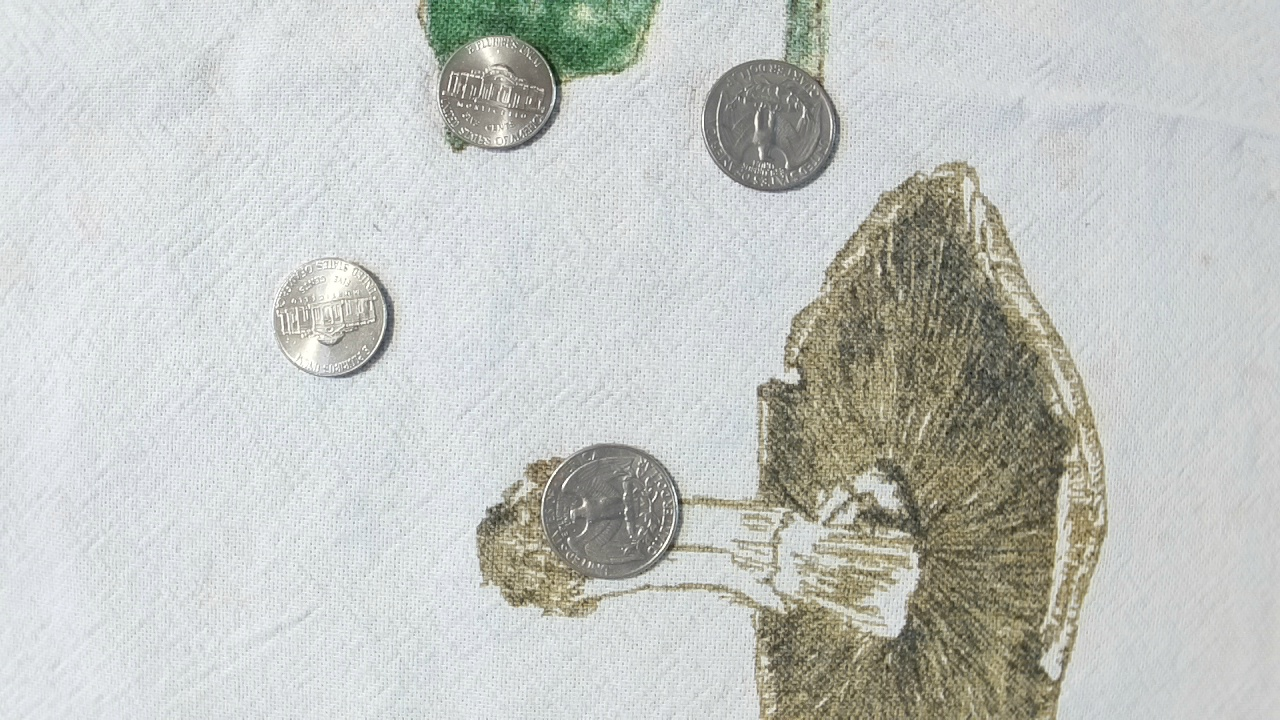nickel: (266, 255, 396, 379), (432, 32, 562, 152)
quarter: (524, 440, 686, 586), (701, 54, 839, 196)
